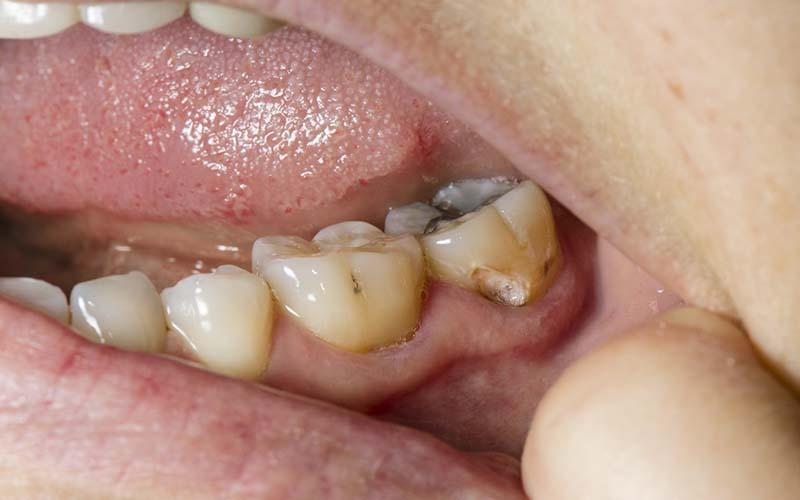cavity: (380, 167, 572, 313), (245, 215, 434, 356)
normal: (157, 256, 297, 392), (64, 262, 178, 364), (0, 263, 74, 345), (69, 0, 191, 44), (188, 0, 289, 49), (0, 0, 87, 44)
